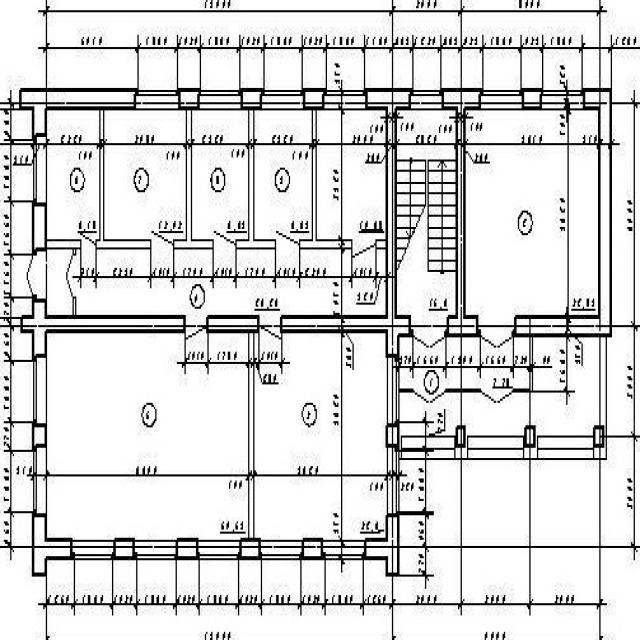Corridors: (77, 250, 386, 316), (400, 338, 599, 436), (399, 336, 529, 387), (47, 250, 72, 314)
Doors: (478, 314, 515, 349), (411, 314, 447, 349), (26, 250, 48, 301), (259, 314, 282, 342), (186, 315, 207, 343), (481, 387, 513, 405), (413, 388, 446, 405), (65, 254, 77, 298), (275, 228, 300, 249), (213, 228, 236, 249), (150, 228, 173, 249), (352, 240, 376, 259), (76, 228, 96, 249)
LBwalls: (279, 87, 414, 357), (400, 337, 607, 460), (513, 87, 612, 338), (21, 300, 186, 362), (439, 88, 483, 314), (19, 87, 139, 142), (32, 514, 72, 577), (365, 513, 400, 577), (206, 314, 260, 334), (447, 314, 478, 336), (32, 204, 46, 250), (176, 536, 199, 559), (240, 87, 262, 110), (114, 537, 135, 561), (303, 88, 324, 110), (240, 537, 260, 560), (303, 537, 322, 561), (522, 87, 541, 111), (179, 88, 199, 110), (32, 423, 47, 448), (385, 424, 399, 448), (524, 424, 536, 448), (593, 424, 605, 448), (456, 425, 466, 448)
Offices: (47, 334, 248, 539), (466, 110, 598, 315), (255, 333, 385, 539), (105, 110, 186, 239), (317, 109, 386, 238), (254, 110, 312, 238), (193, 111, 248, 239), (47, 110, 99, 239)
Stairs: (396, 109, 456, 316)
Walls: (96, 109, 152, 250), (299, 109, 353, 250), (235, 110, 276, 249), (173, 110, 214, 249), (512, 336, 534, 393), (249, 333, 254, 537), (47, 239, 81, 256), (445, 388, 481, 393), (376, 239, 386, 249), (72, 295, 76, 314), (400, 388, 415, 393)
Windows: (323, 539, 365, 561), (33, 446, 46, 516), (480, 89, 523, 110), (34, 356, 47, 425), (34, 136, 47, 204), (323, 90, 367, 110), (261, 90, 304, 110), (387, 445, 399, 516), (199, 90, 241, 110), (72, 539, 114, 559), (261, 540, 303, 560), (135, 89, 179, 108), (542, 90, 585, 109), (134, 540, 177, 559), (197, 540, 240, 559), (387, 356, 399, 424), (410, 90, 442, 109)
